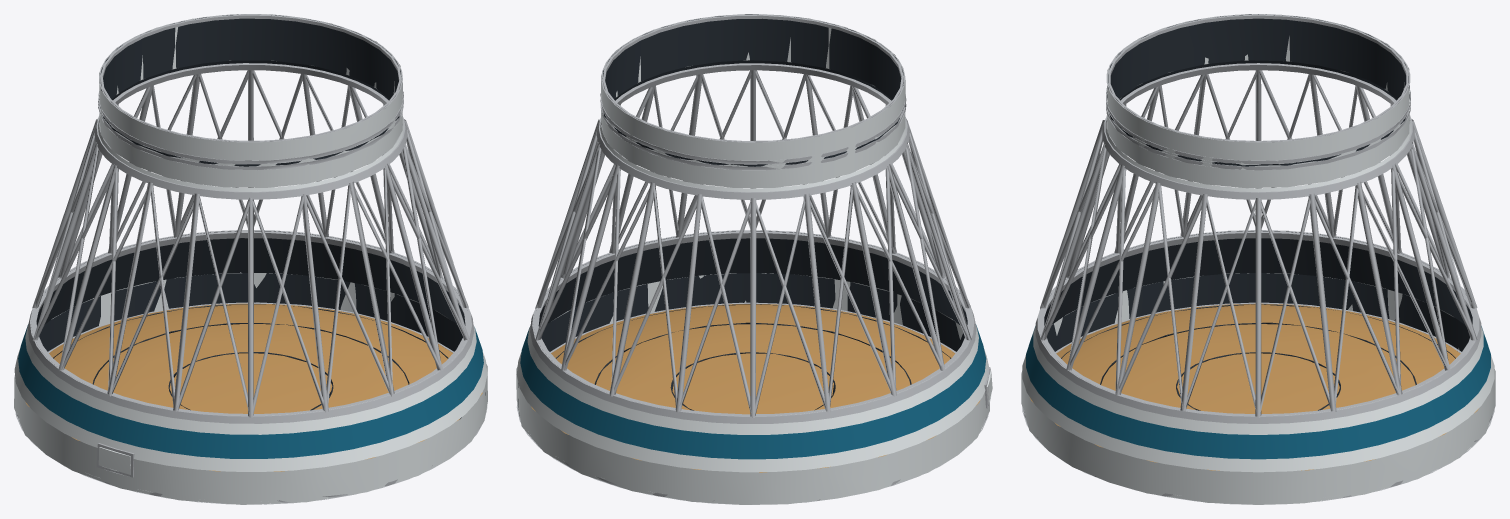
Rendered from interstage_hot_staging_d84_to_d54.glb.
3 views of the same model, side by side, from view 1: azimuth 30°, elevation 25°; view 2: azimuth 150°, elevation 25°; view 3: azimuth 270°, elevation 25° (orthographic).
Parts seen in each view (by area): view 1: interstage_hot_staging_d84_to_d54_mesh; view 2: interstage_hot_staging_d84_to_d54_mesh; view 3: interstage_hot_staging_d84_to_d54_mesh.
Part boxes in pixels (x1=…): interstage_hot_staging_d84_to_d54_mesh: x1=14, y1=14, x2=487, y2=504; interstage_hot_staging_d84_to_d54_mesh: x1=516, y1=14, x2=992, y2=504; interstage_hot_staging_d84_to_d54_mesh: x1=1021, y1=14, x2=1495, y2=504.
Size of the model in its own units: 8.4 by 6.4 by 8.42.
